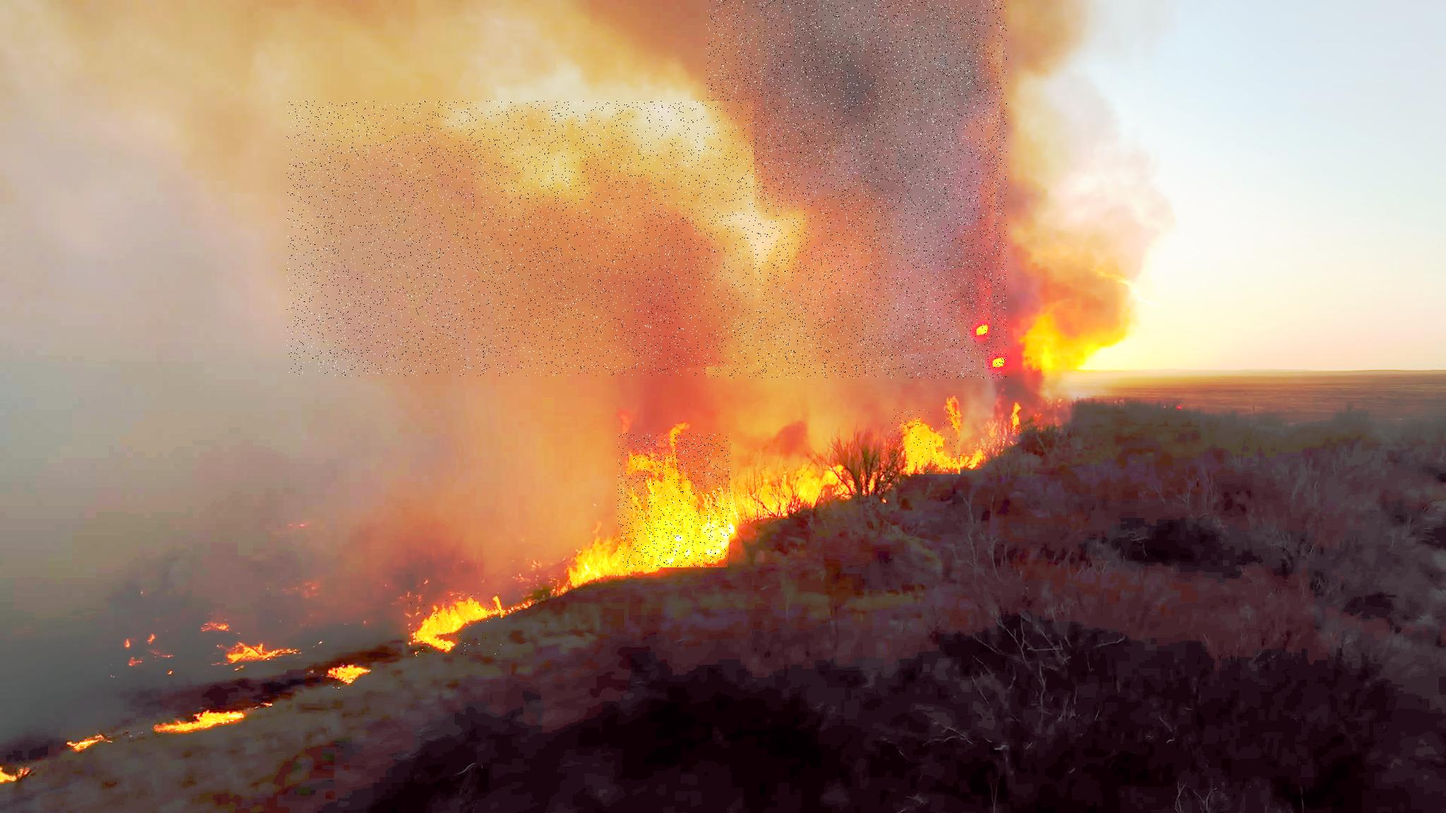fire: (618, 433, 731, 567), (408, 593, 501, 656), (890, 409, 960, 474)
smoke: (287, 101, 754, 376), (706, 0, 1007, 378)
